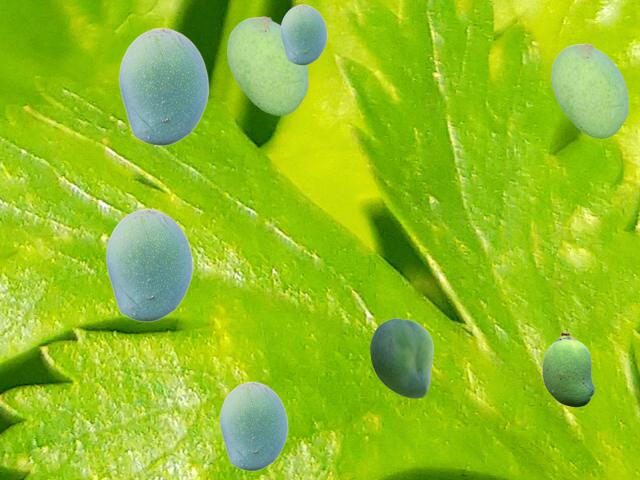green_mango: (118, 27, 208, 145), (105, 208, 192, 321), (227, 16, 307, 114), (551, 43, 627, 137), (219, 381, 287, 470), (370, 318, 432, 397), (542, 332, 594, 406), (280, 4, 326, 64)
